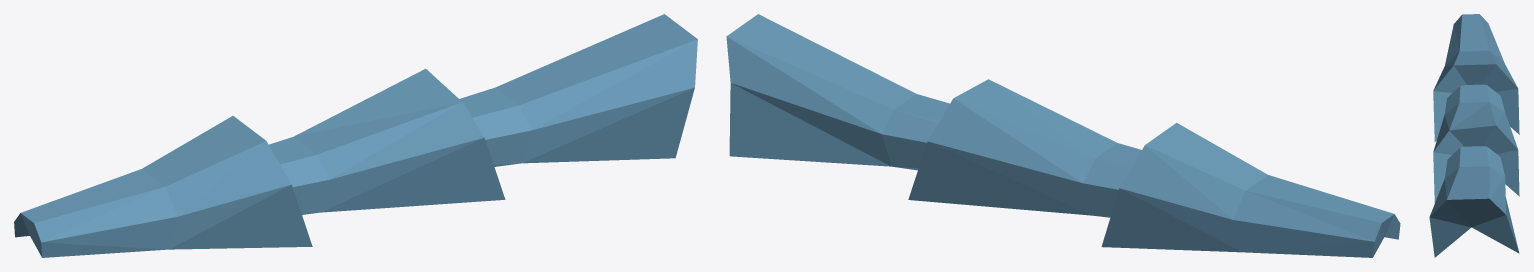
File: ROOF_tile_up_1.glb
3 renders of one model, left to right at view 1: azimuth 30°, elevation 25°; view 2: azimuth 150°, elevation 25°; view 3: azimuth 270°, elevation 25°, orthographic. The views are drawn at different scales.
Parts seen in each view (by area): view 1: ROOF_tile_up_1; view 2: ROOF_tile_up_1; view 3: ROOF_tile_up_1.
Boxes of the visible parts, x1=… form: ROOF_tile_up_1: x1=14, y1=14, x2=697, y2=257; ROOF_tile_up_1: x1=726, y1=14, x2=1400, y2=257; ROOF_tile_up_1: x1=1429, y1=14, x2=1519, y2=257.
Size of the model in its own units: 1.15 by 0.1784 by 0.211.
1 material, 1 textured.
